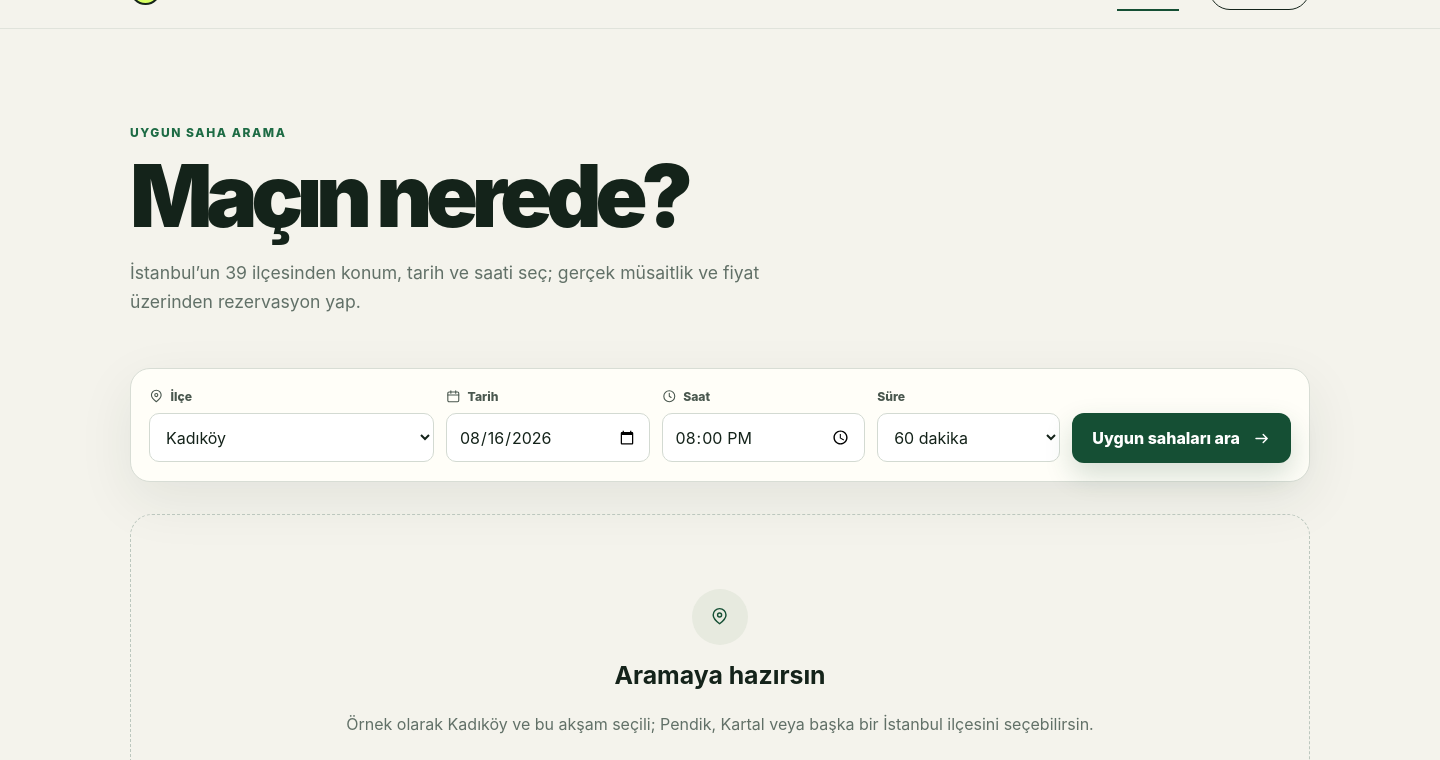
Test: frontend routes › validates criteria and renders fields returned by the availability API
Select "" in the dropdown labelled "İlçe" at (292, 438), box 149,413 -> 434,462
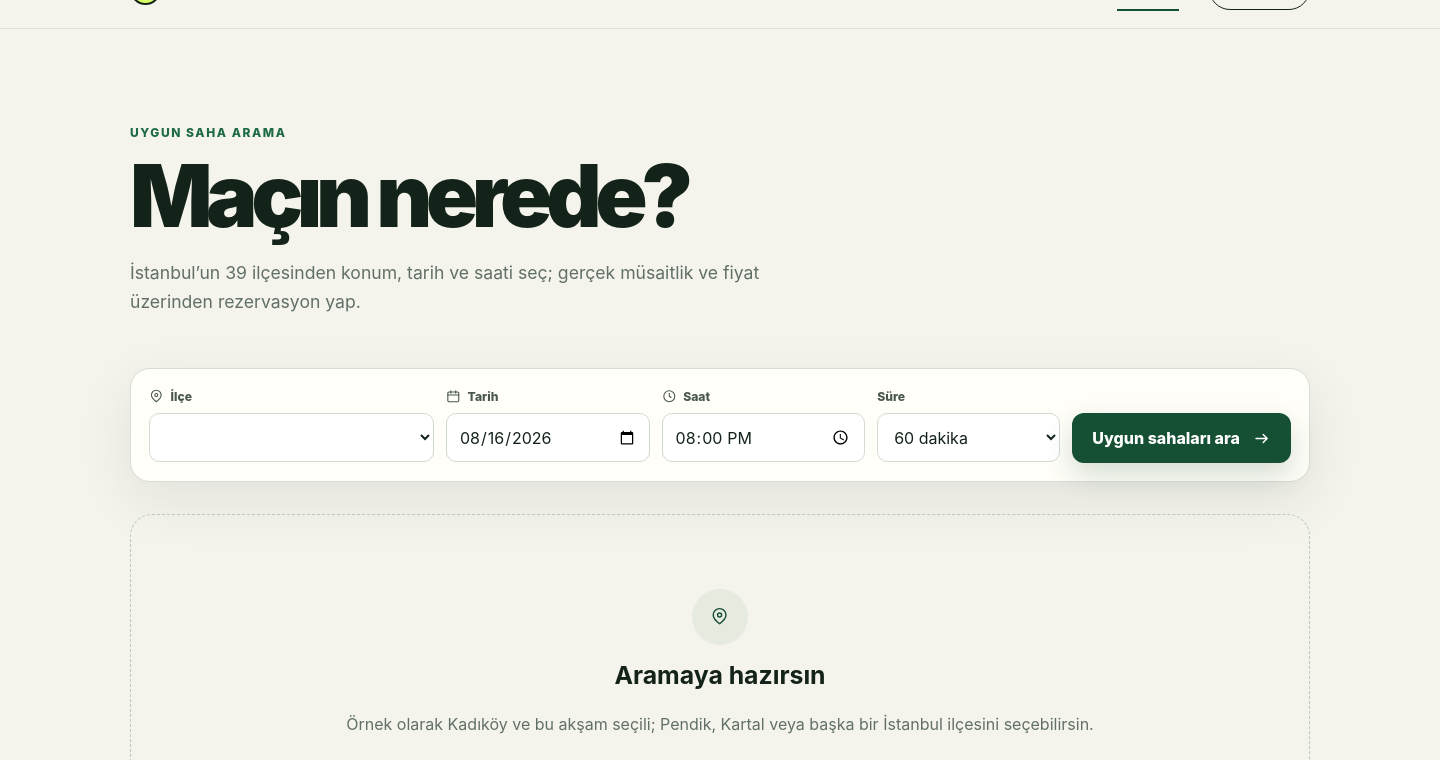
Click the button "Uygun sahaları ara" at (1182, 438), box 1072,413 -> 1291,463
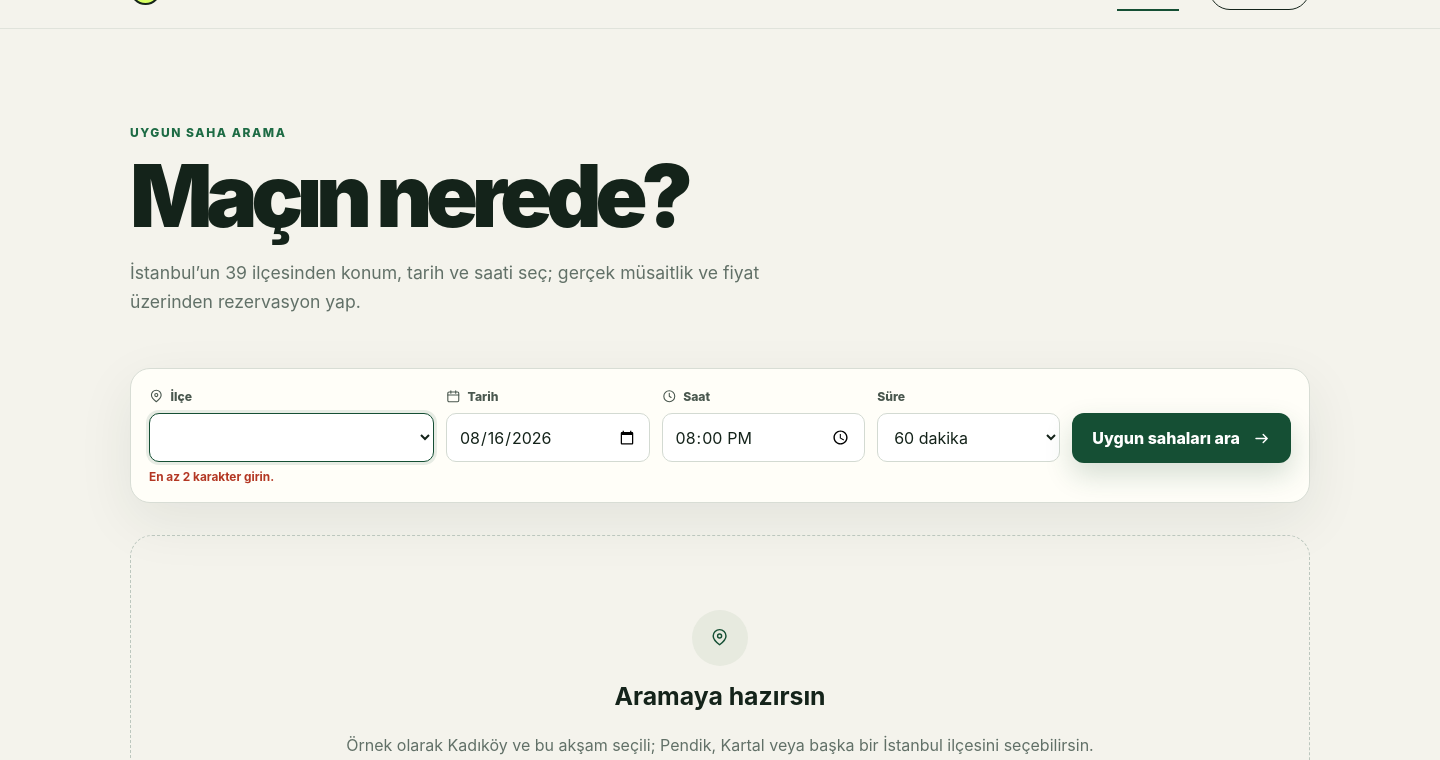
Result: the text "En az 2 karakter girin." is shown at 149,470 -> 274,484
Select "Kadıköy" in the dropdown labelled "İlçe" at (292, 438), box 149,413 -> 434,462
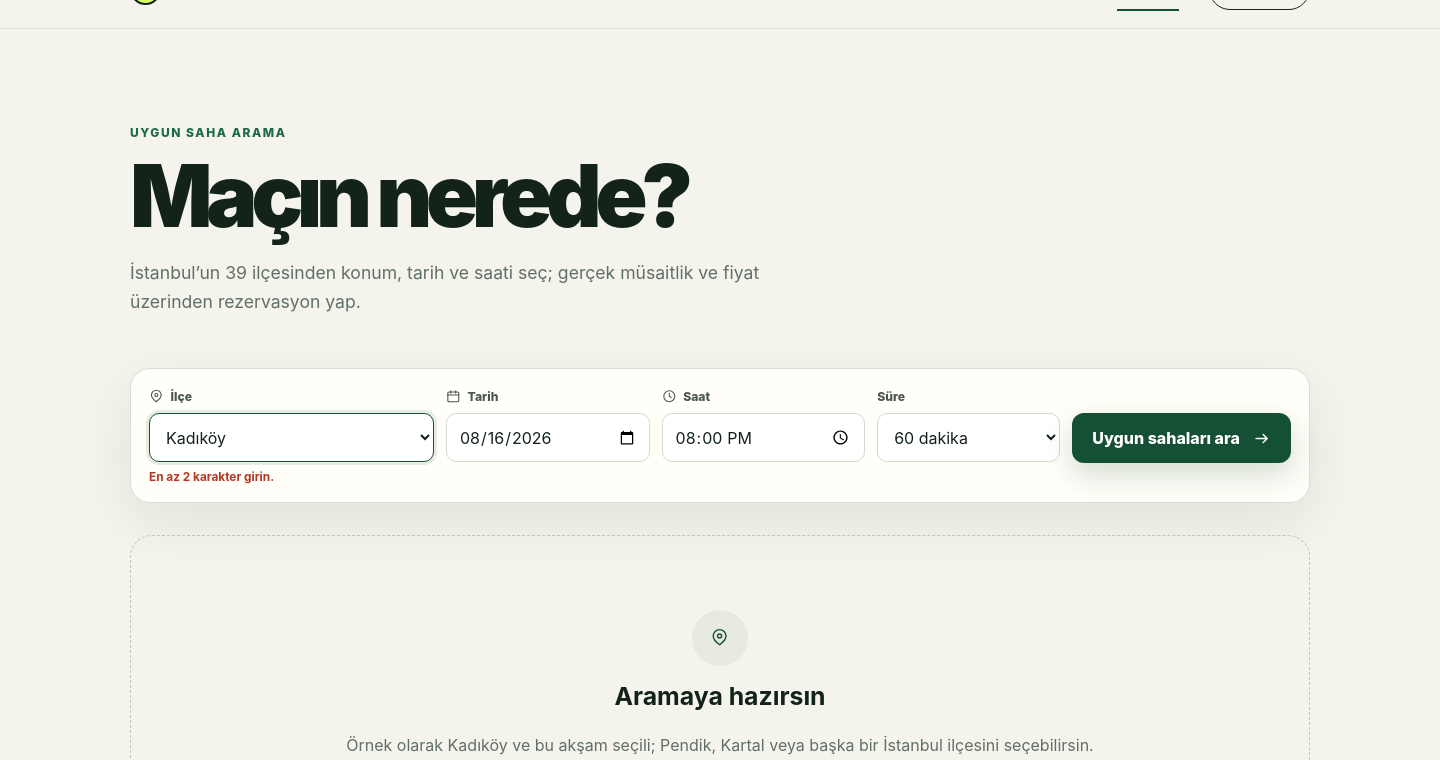
Type "2026-08-20" into the date field labelled "Tarih" at (548, 438), box 446,413 -> 650,462
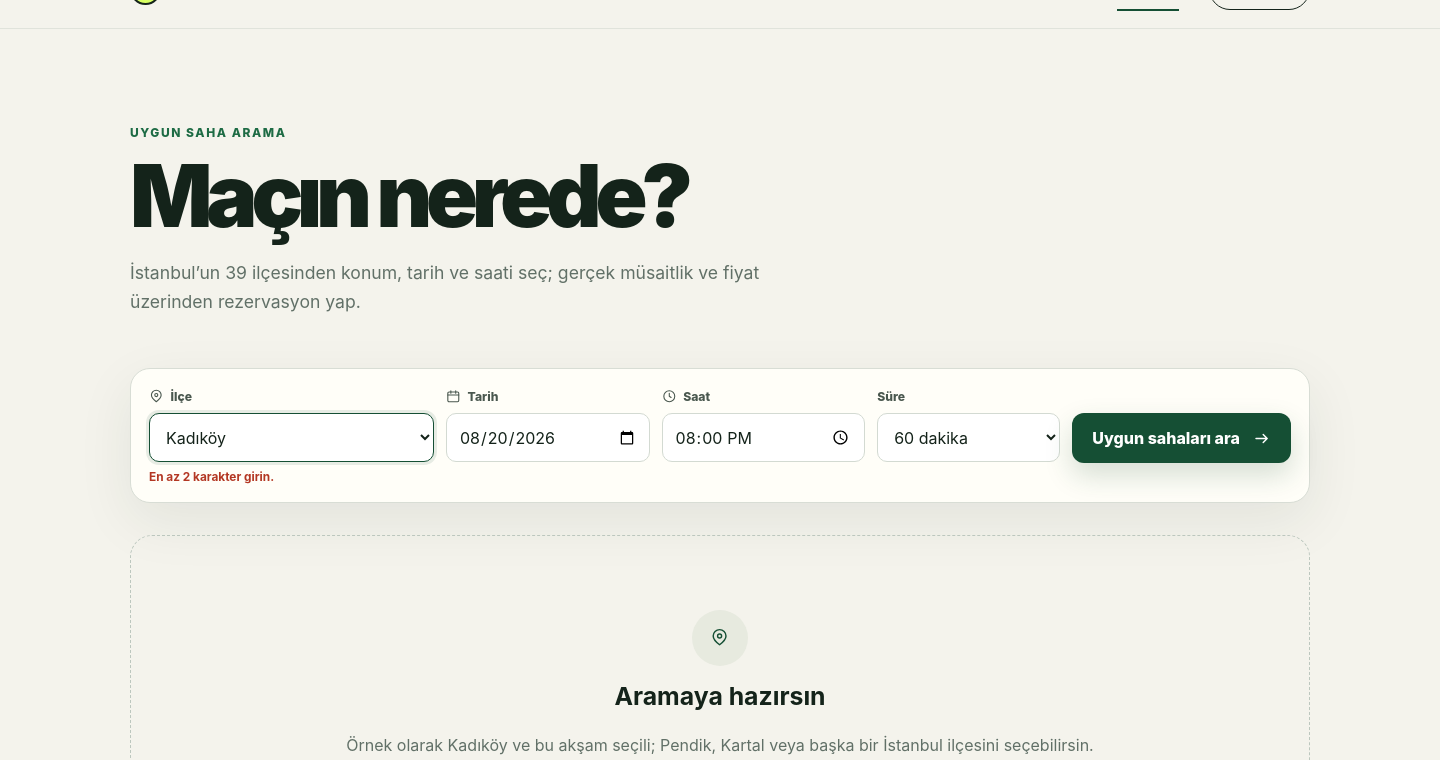
Click the button "Uygun sahaları ara" at (1182, 438), box 1072,413 -> 1291,463
(page scrolled)
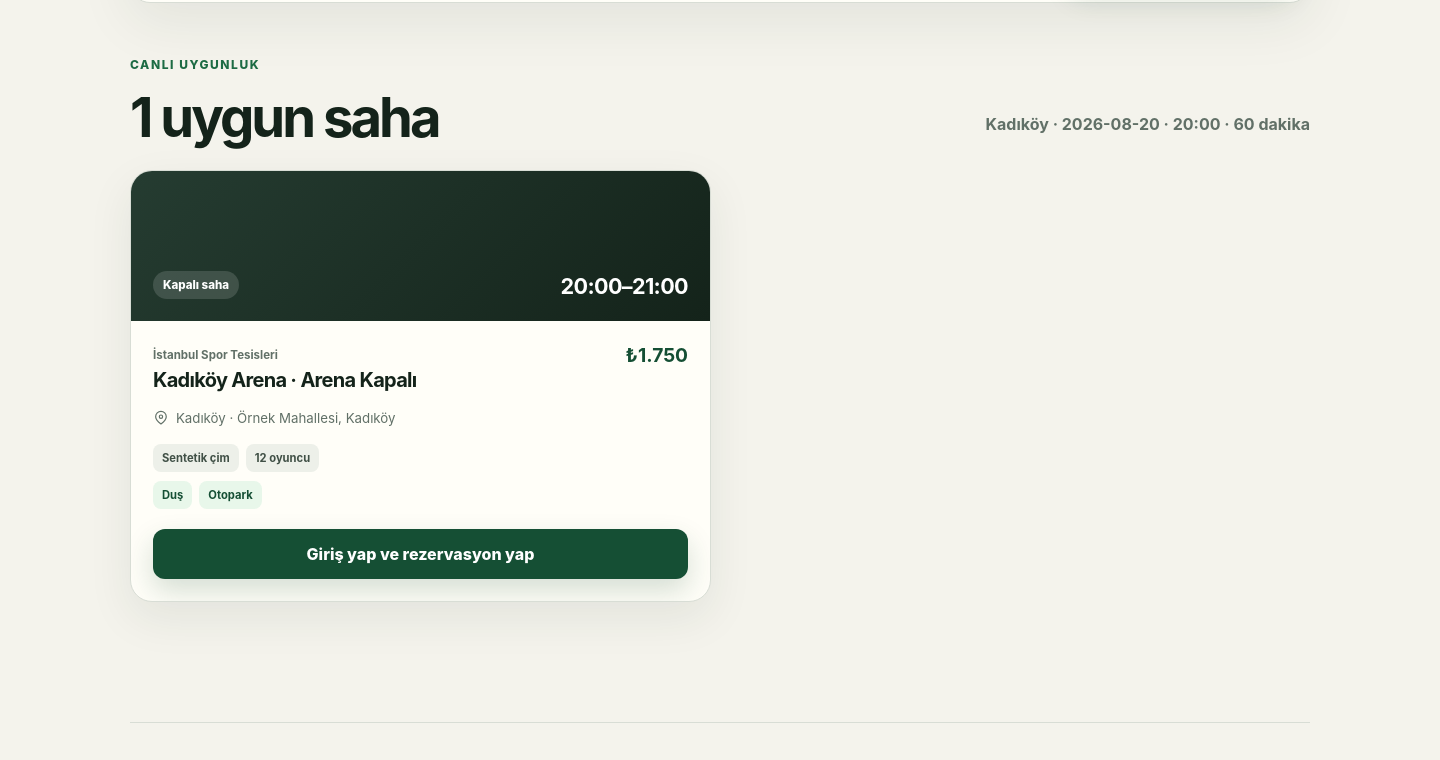
Result: the heading "1 uygun saha" is shown at 130,84 -> 438,150
Result: the heading "Kadıköy Arena · Arena Kapalı" is shown at 153,368 -> 416,392
Result: the text "₺1.750" is shown at 626,343 -> 688,367
